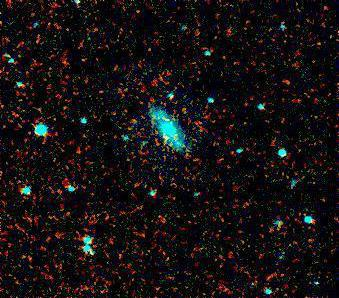star: (145, 201, 175, 231)
